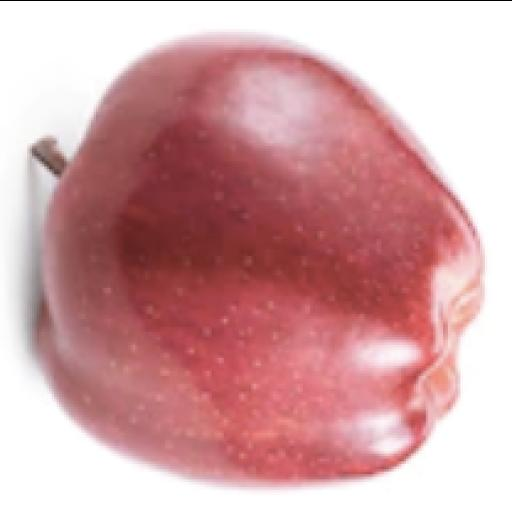apple: (34, 37, 481, 483)
